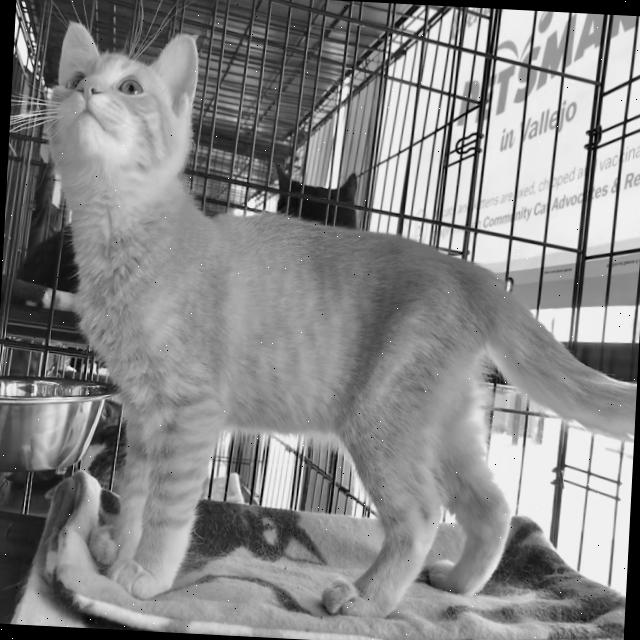american_shorthair_cat: (32, 13, 210, 203)
